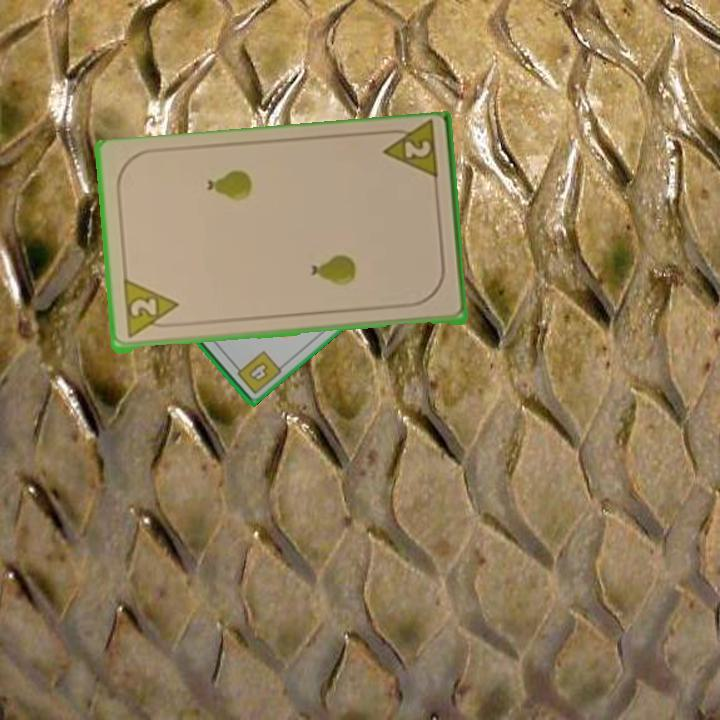2p: (377, 121, 441, 186), (119, 278, 182, 342)
4b: (229, 347, 284, 397)
